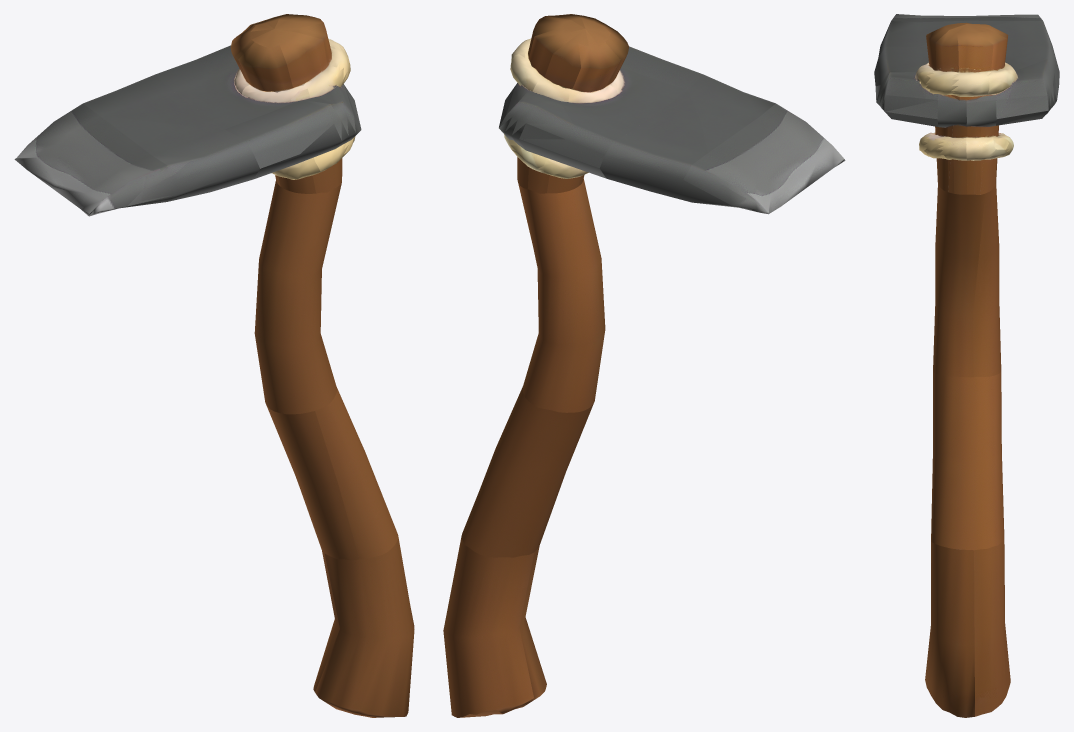
File: hoe.glb
3 views of the same model, side by side, from view 1: azimuth 30°, elevation 25°; view 2: azimuth 150°, elevation 25°; view 3: azimuth 270°, elevation 25° (orthographic). The views are drawn at different scales.
Parts seen in each view (by area): view 1: mesh_node; view 2: mesh_node; view 3: mesh_node.
Part boxes in pixels (x1=…): mesh_node: x1=14, y1=14, x2=414, y2=717; mesh_node: x1=443, y1=14, x2=845, y2=717; mesh_node: x1=874, y1=14, x2=1059, y2=717.
Size of the model in its own units: 0.5273 by 1 by 0.2637.
Materials: 1 (1 with a texture image).
